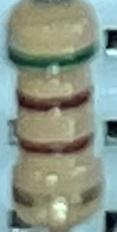Brown: (19, 131, 95, 157), (19, 87, 91, 110)
Green: (10, 42, 97, 68)
Side-Silver: (14, 178, 103, 209)
